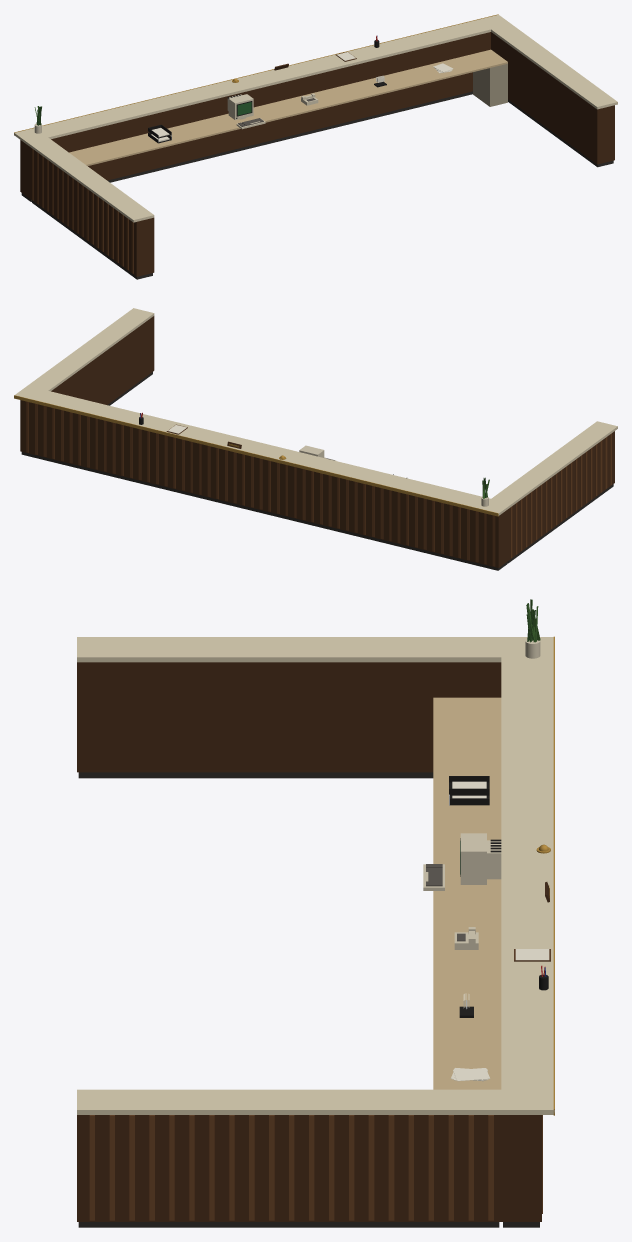
Rendered from SM_80s_ReceptionCounter.glb.
3 renders of one model, top to bottom at view 1: azimuth 30°, elevation 25°; view 2: azimuth 150°, elevation 25°; view 3: azimuth 270°, elevation 25°, orthographic. The views are drawn at different scales.
Parts seen in each view (by area): view 1: SM_80s_ReceptionCounter; view 2: SM_80s_ReceptionCounter; view 3: SM_80s_ReceptionCounter.
Boxes of the visible parts, bbox=[...] form: SM_80s_ReceptionCounter: bbox=[14, 14, 617, 279]; SM_80s_ReceptionCounter: bbox=[14, 308, 617, 570]; SM_80s_ReceptionCounter: bbox=[77, 599, 554, 1227].
Bounding box in the file's own units: 12.34 × 2.12 × 5.28.
